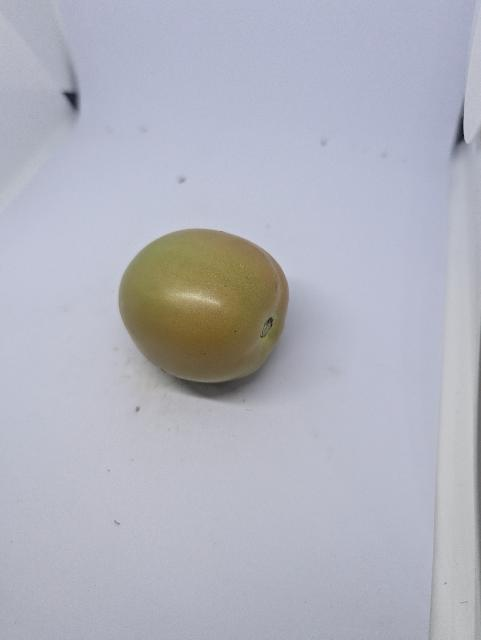breaker: (119, 229, 289, 383)
